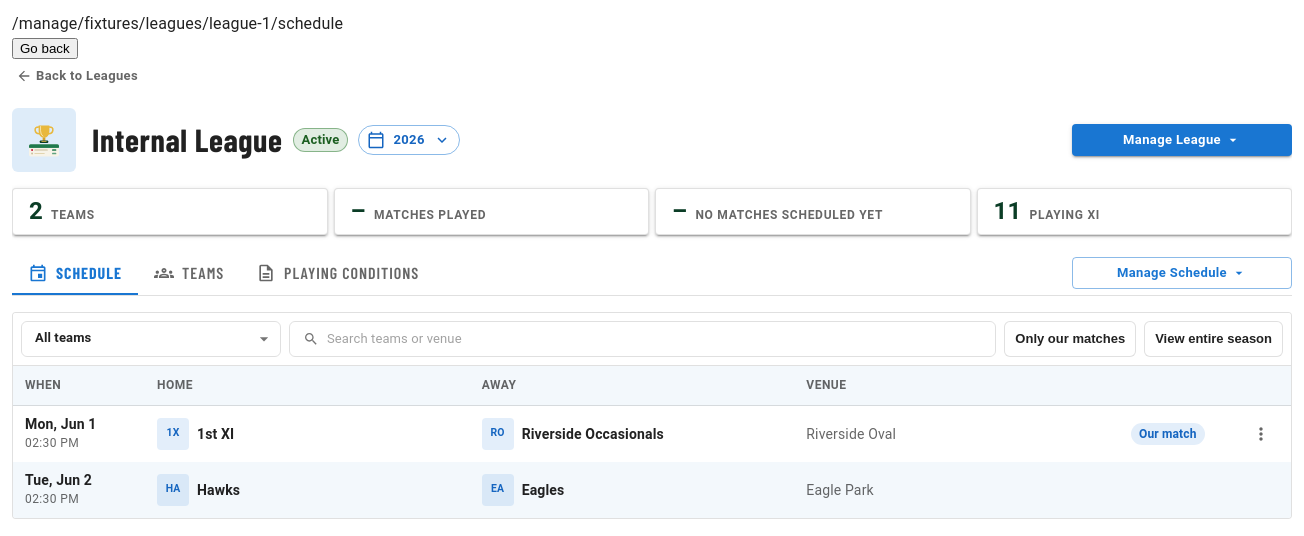
LeagueScheduleView › filters (091) › searches the team names and the venue, and says so when nothing matches
This screenshot has width=1304, height=536.
Type "eagle park" into the field labelled "Search" at point(662, 339), box [327,321,996,357]
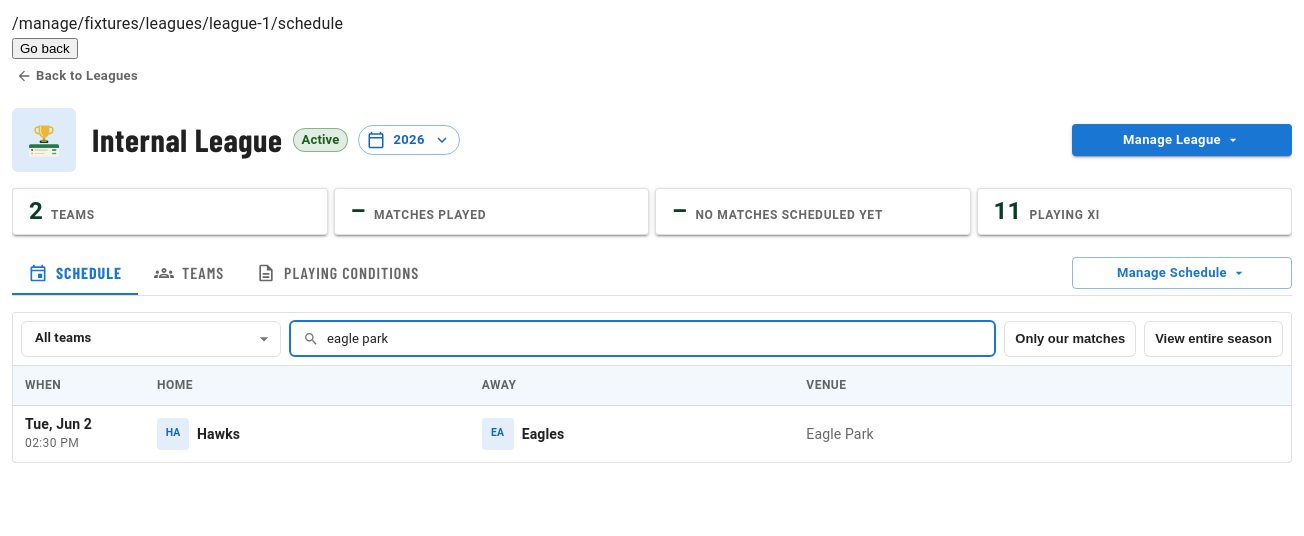
Now the number of rows with test id "fixture-row" is 1, box [25,416,874,450]
Replace the text in the field named "Search" with "zzz" at point(662, 339), box [327,321,996,357]
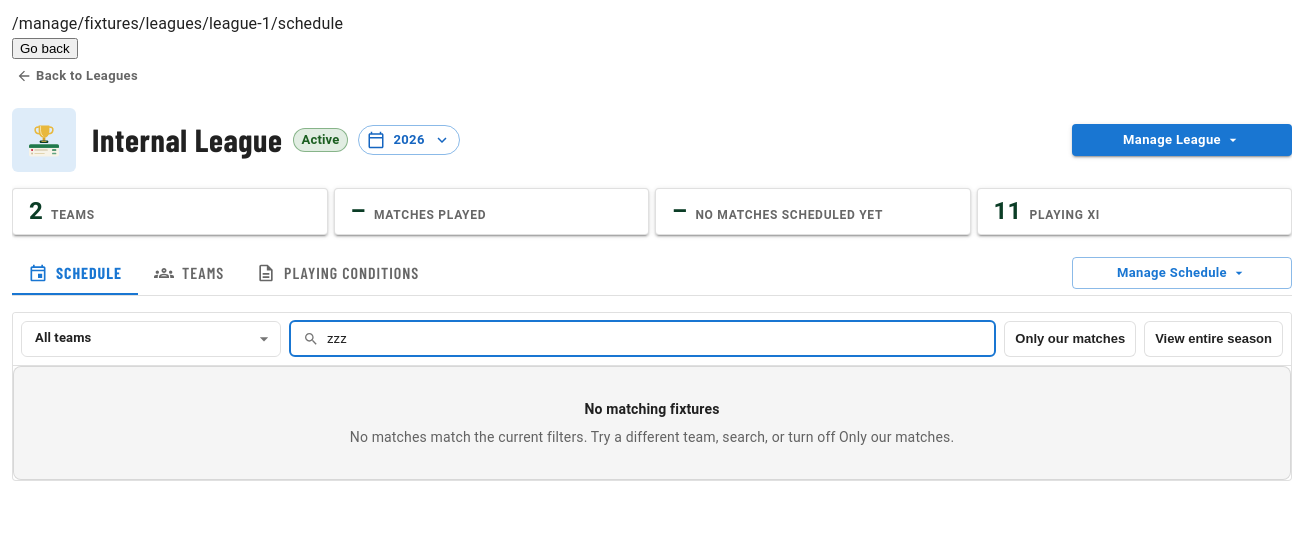
Now the text "No matching fixtures" is shown, box [584,399,720,419]
